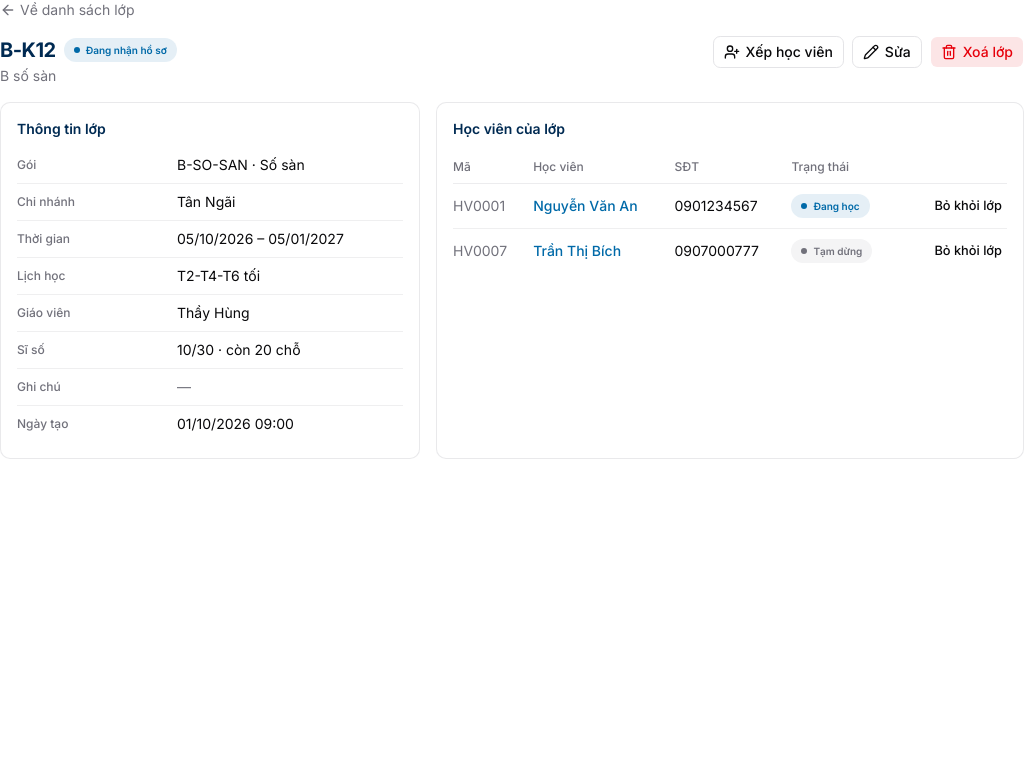
Test: ClassDetail › Xếp học viên: tất cả thành công → toast, đóng sheet
The width and height of the screenshot is (1024, 768).
Click the button "Xếp học viên" at (778, 52), box [712, 36, 844, 68]
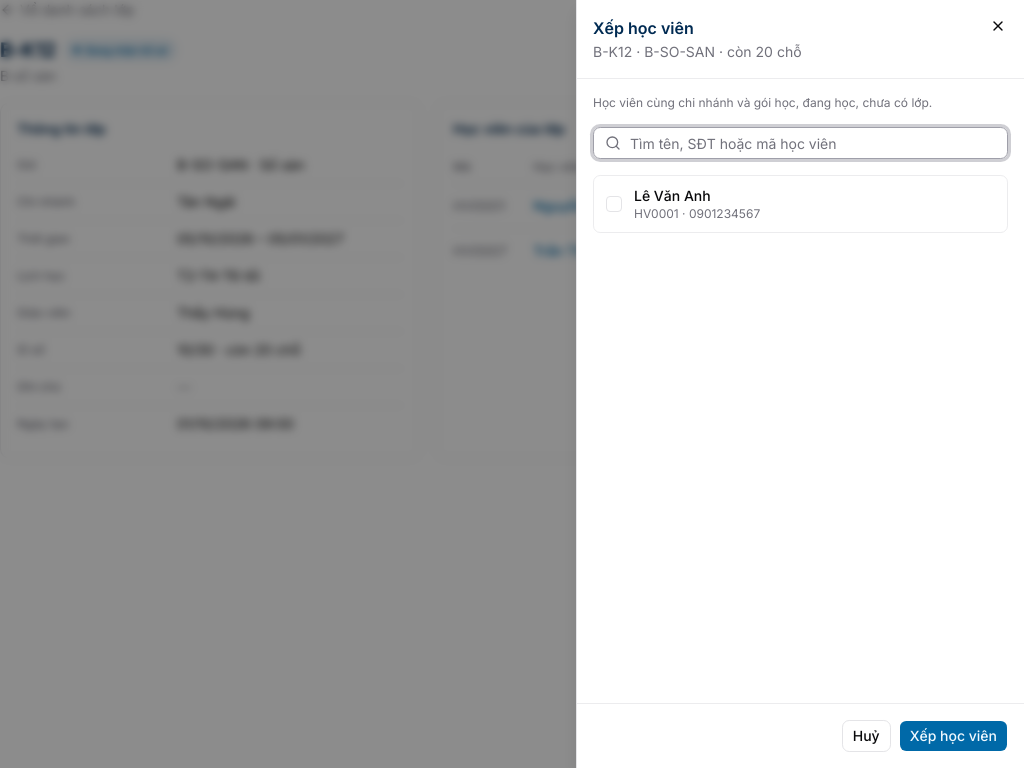
Click the checkbox named "Lê Văn Anh" at (614, 204), box [606, 196, 622, 212]
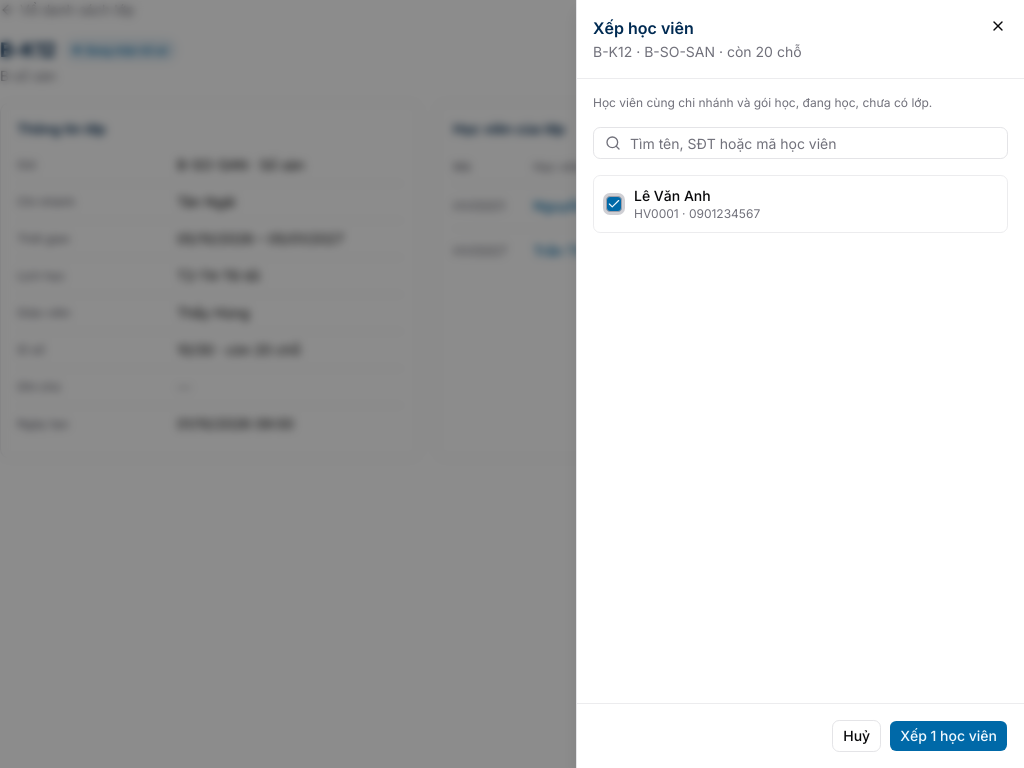
Click the button "Xếp 1 học viên" at (949, 736), box [889, 720, 1008, 752]
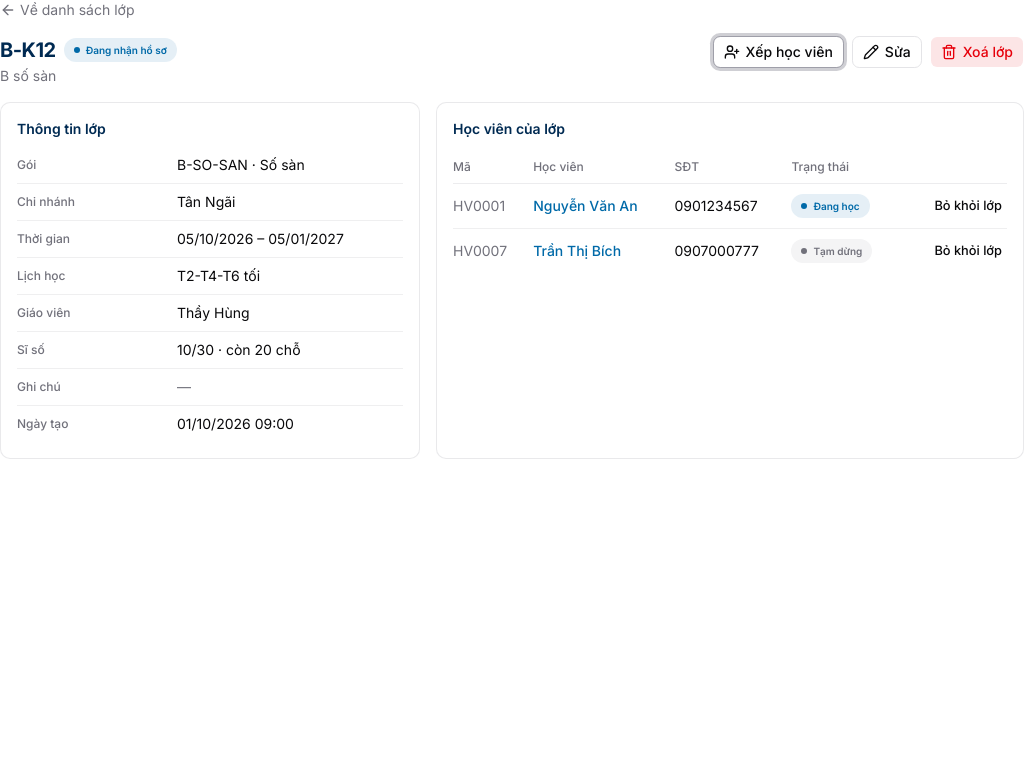
Check: the dialog is gone
